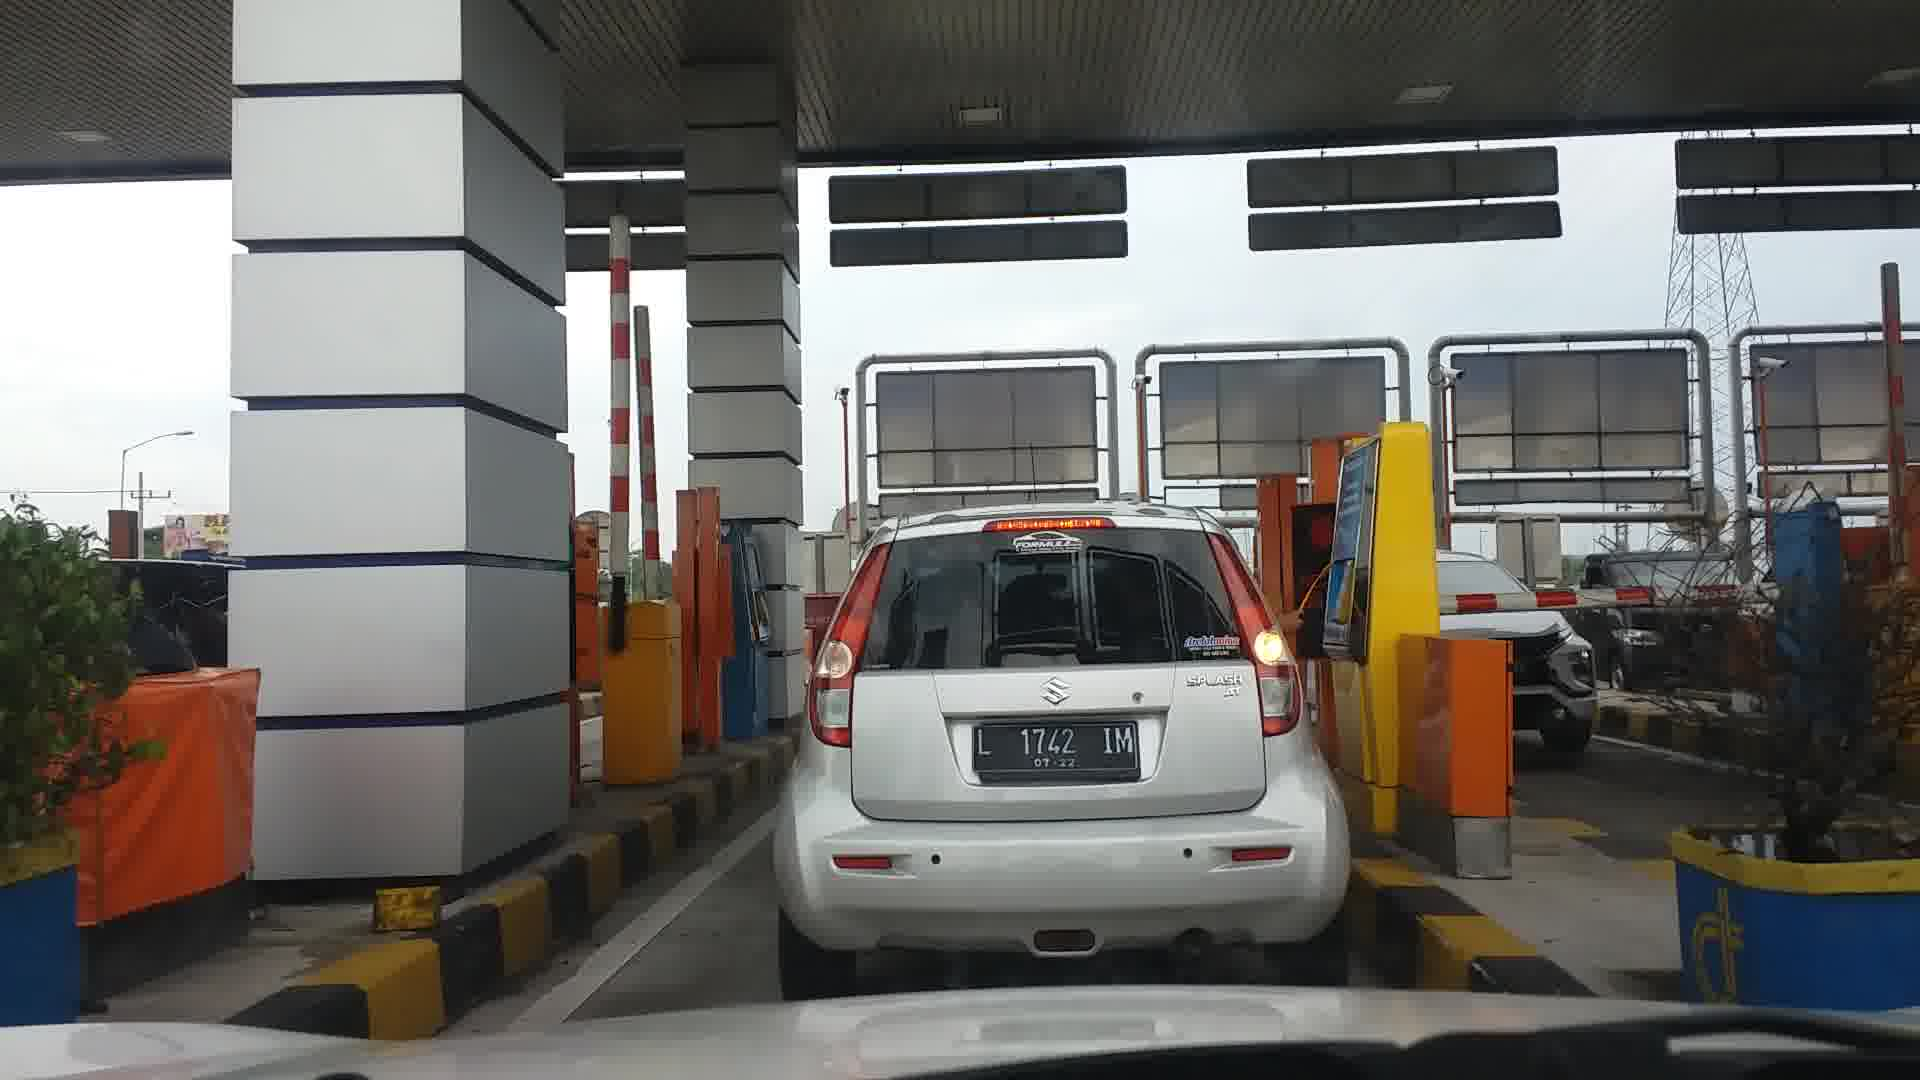plate_positive: (973, 720, 1139, 785)
